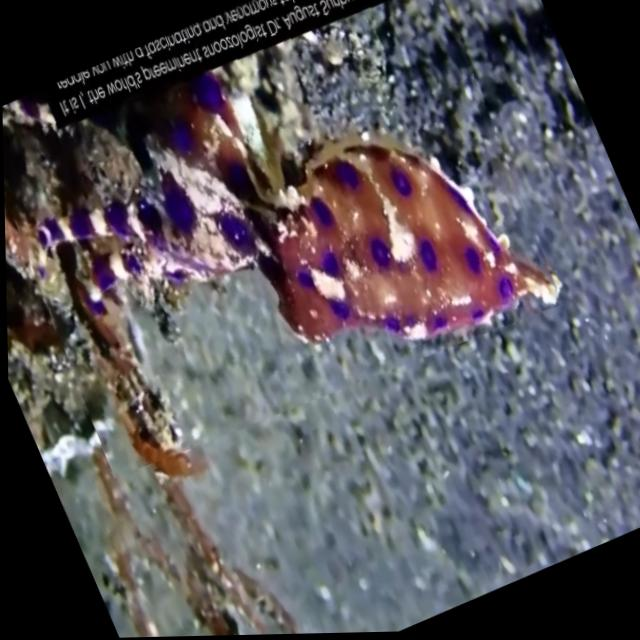blue_ringed_octopus: (0, 0, 571, 490)
